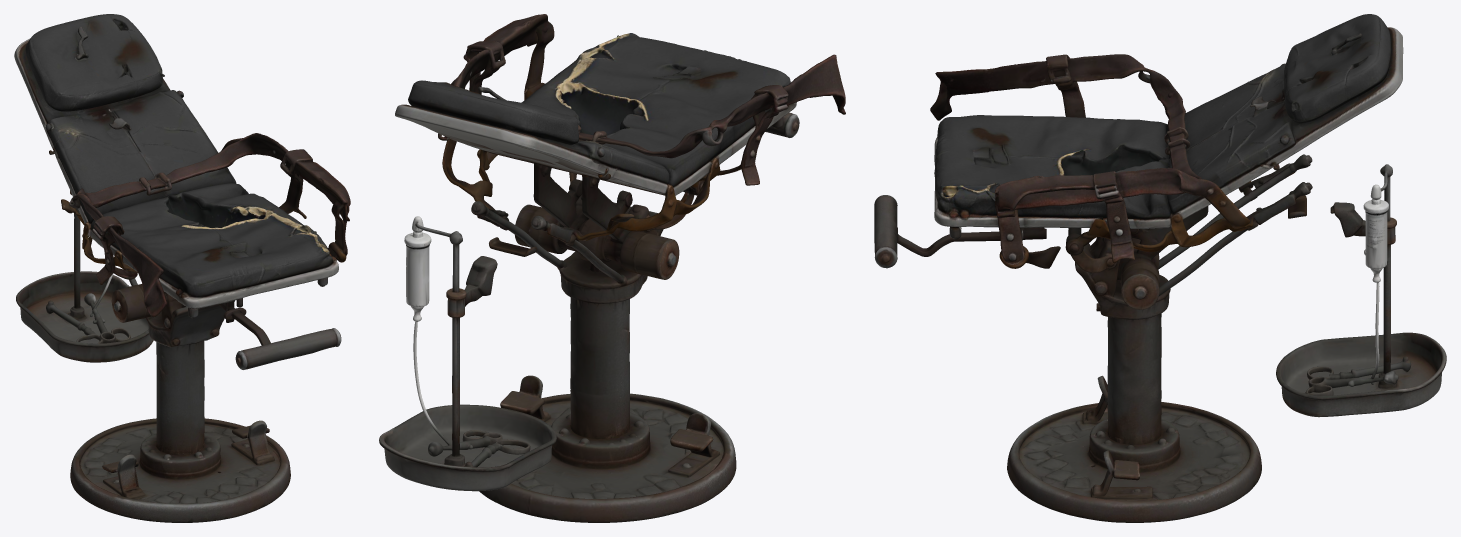
3 views of the same model, side by side, from view 1: azimuth 30°, elevation 25°; view 2: azimuth 150°, elevation 25°; view 3: azimuth 270°, elevation 25° (orthographic). The views are drawn at different scales.
Visible parts, largest first — view 1: tripo_node_158b619d-040f-4356-baec-abf73d39f0d7; view 2: tripo_node_158b619d-040f-4356-baec-abf73d39f0d7; view 3: tripo_node_158b619d-040f-4356-baec-abf73d39f0d7.
Boxes of the visible parts, x1=… form: tripo_node_158b619d-040f-4356-baec-abf73d39f0d7: x1=14, y1=14, x2=350, y2=522; tripo_node_158b619d-040f-4356-baec-abf73d39f0d7: x1=379, y1=14, x2=845, y2=522; tripo_node_158b619d-040f-4356-baec-abf73d39f0d7: x1=874, y1=14, x2=1446, y2=522.
Size of the model in its own units: 0.545 by 0.8384 by 0.9998.
Materials: 1 (1 with a texture image).
